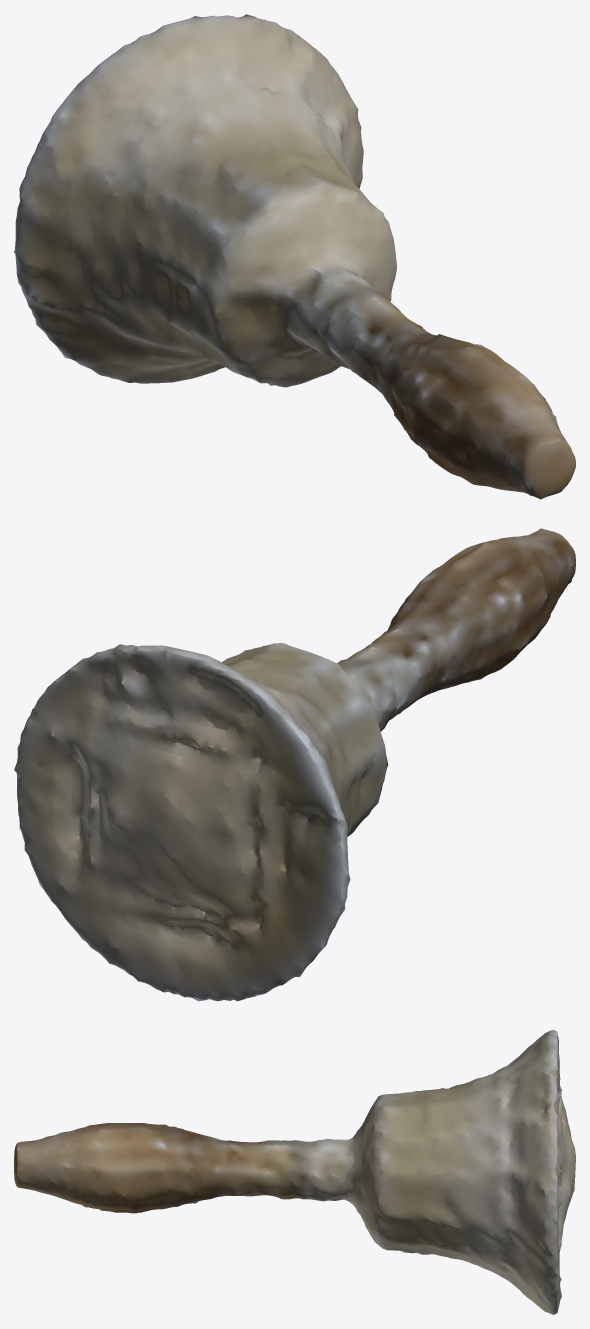
Rendered from bell.glb.
3 renders of one model, top to bottom at view 1: azimuth 30°, elevation 25°; view 2: azimuth 150°, elevation 25°; view 3: azimuth 270°, elevation 25°, orthographic. The views are drawn at different scales.
Size of the model in its own units: 0.5081 by 0.5011 by 0.997.
